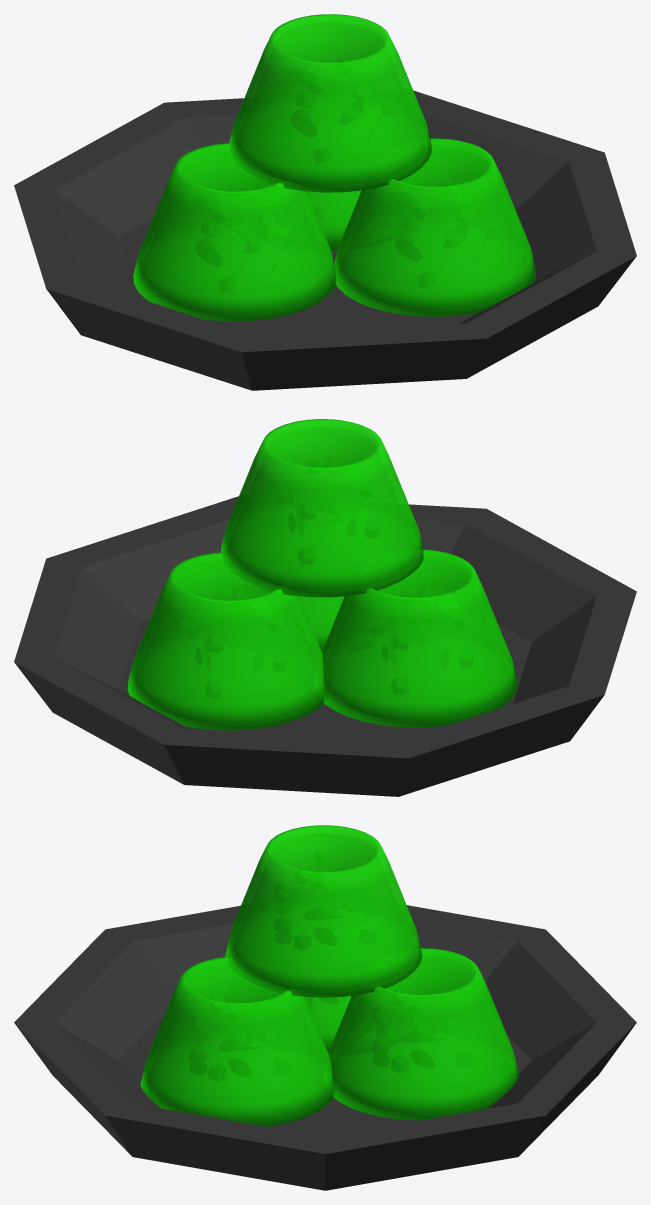
File: vegan jello.fbx
3 renders of one model, top to bottom at view 1: azimuth 30°, elevation 25°; view 2: azimuth 150°, elevation 25°; view 3: azimuth 270°, elevation 25°, orthographic. The views are drawn at different scales.
Visible parts, largest first — view 1: vegan jello; view 2: vegan jello; view 3: vegan jello.
Part boxes in pixels (x1,y1,x2,y2): vegan jello: (14,14,636,390); vegan jello: (14,419,636,796); vegan jello: (14,825,636,1190).
Size of the model in its own units: 302 by 130 by 302.
